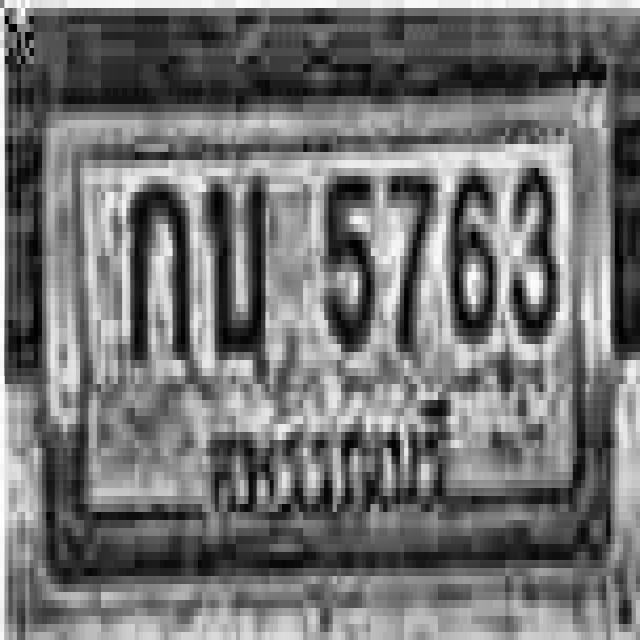license-plate: (36, 78, 625, 610)
